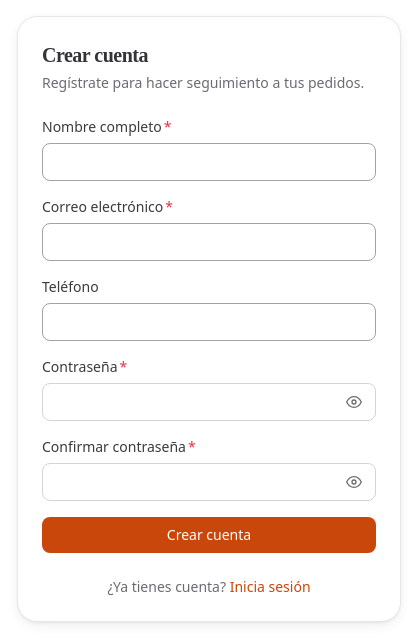
Scenario: RegisterPage › muestra el aviso de confirmación de correo cuando needsEmailConfirmation es true
This screenshot has width=419, height=641.
Step 1. Type "Ana Pérez" into the field labelled "Nombre completo*" → (209, 162), box [42,143,376,181]
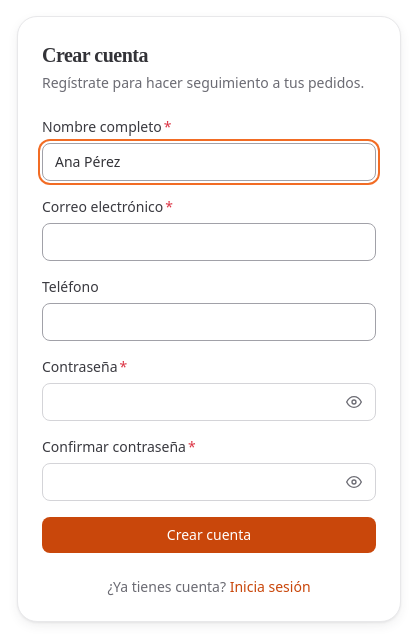
Step 2. Type "ana@example.com" into the field labelled "Correo electrónico*" → (209, 242), box [42,223,376,261]
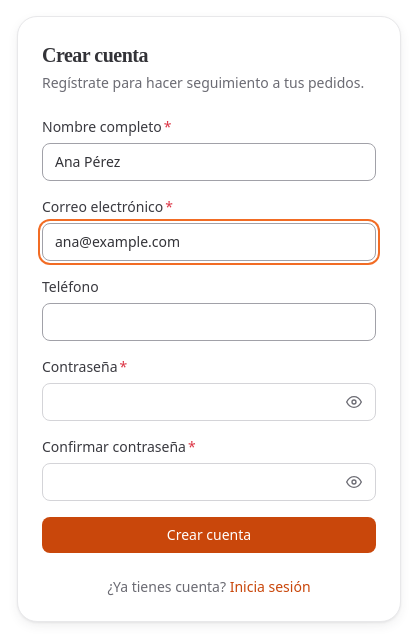
Step 3. Type "secreto123" into the password field labelled "Contraseña*" → (209, 402), box [42,383,376,421]
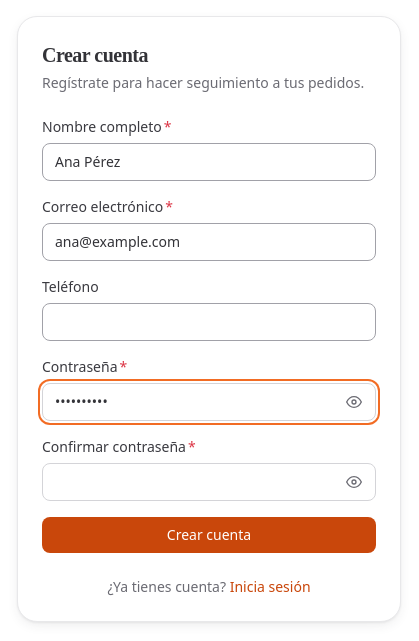
Step 4. Type "secreto123" into the password field labelled "Confirmar contraseña*" → (209, 482), box [42,463,376,501]
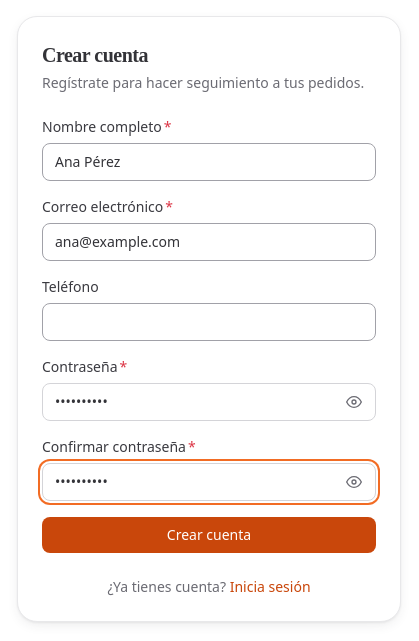
Step 5. Click the button "Crear cuenta" → (209, 535), box [42,517,376,553]
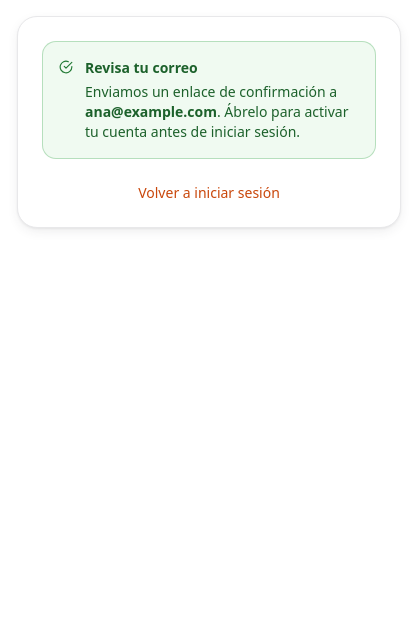
Expected: the text "Revisa tu correo" is shown, [85,58,198,77]
